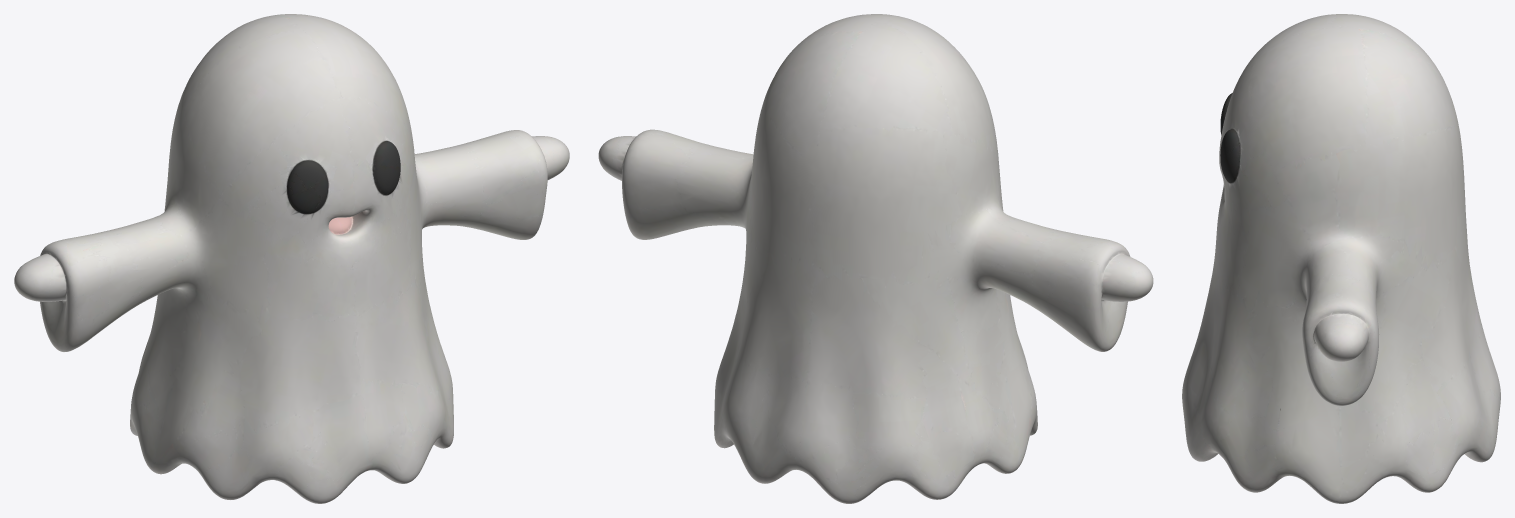
File: a3D-fantasma.glb
3 renders of one model, left to right at view 1: azimuth 30°, elevation 25°; view 2: azimuth 150°, elevation 25°; view 3: azimuth 270°, elevation 25°, orthographic.
Parts seen in each view (by area): view 1: geometry_0; view 2: geometry_0; view 3: geometry_0.
Boxes of the visible parts, left/top/right/bottom form: geometry_0: left=14, top=14, right=569, bottom=503; geometry_0: left=598, top=14, right=1153, bottom=503; geometry_0: left=1182, top=14, right=1500, bottom=503.
Size of the model in its own units: 1.9 by 1.37 by 0.9578.
Materials: 1 (1 with a texture image).
